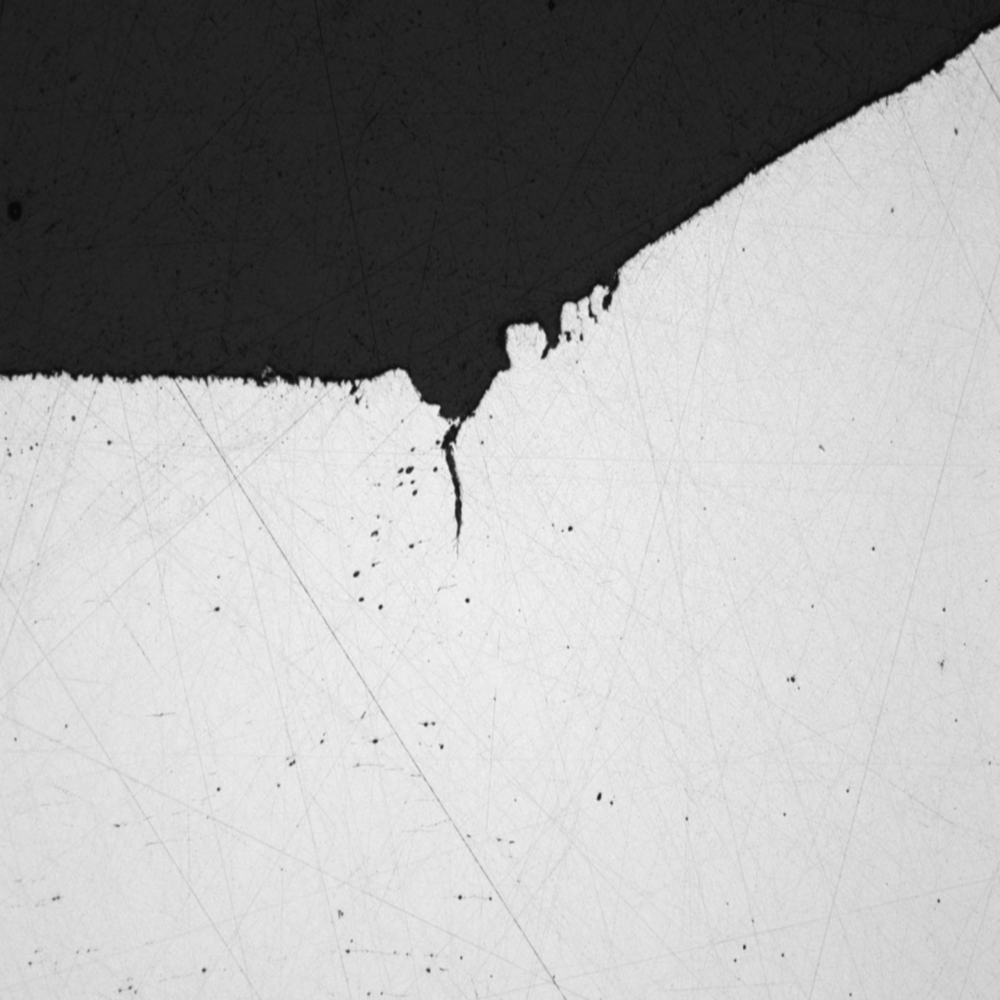crack: (421, 318, 524, 574), (538, 301, 567, 366)
